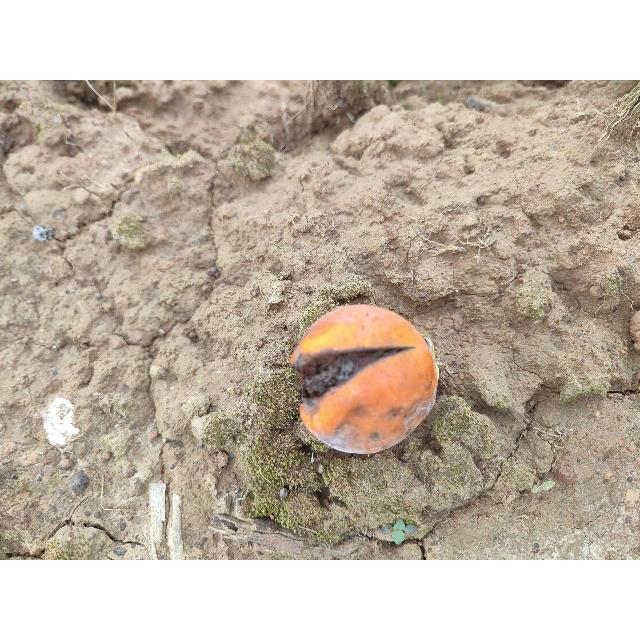damaged: (290, 305, 438, 456)
